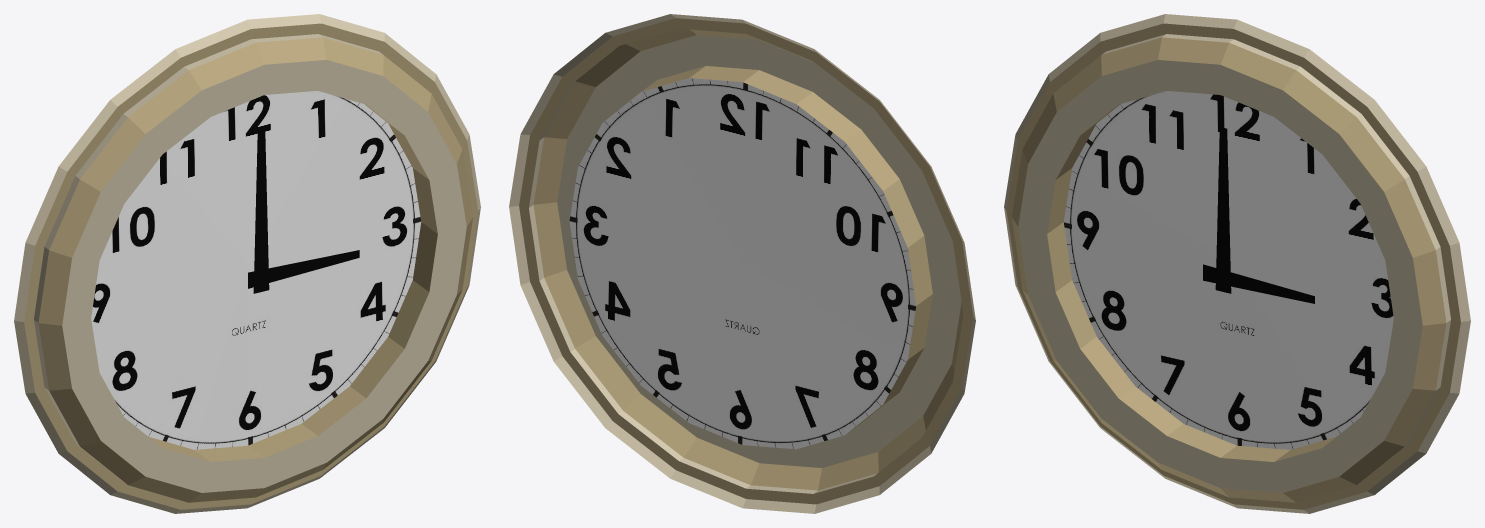
Rendered from clock_altered.dae.
The picture shows the model from 3 angles, left to right: view 1: azimuth 30°, elevation 25°; view 2: azimuth 150°, elevation 25°; view 3: azimuth 330°, elevation 25°; orthographic projection.
Parts seen in each view (by area): view 1: Lathe-Geometry, Box-Geometry, BoxDuplicate-Geometry; view 2: Lathe-Geometry; view 3: Lathe-Geometry, Box-Geometry, BoxDuplicate-Geometry.
Part boxes in pixels (left/top/right/bottom): Lathe-Geometry: left=14, top=14, right=480, bottom=513; Box-Geometry: left=253, top=127, right=269, bottom=293; BoxDuplicate-Geometry: left=248, top=250, right=359, bottom=288; Lathe-Geometry: left=509, top=14, right=975, bottom=513; Lathe-Geometry: left=1004, top=14, right=1470, bottom=513; Box-Geometry: left=1215, top=127, right=1231, bottom=293; BoxDuplicate-Geometry: left=1203, top=264, right=1314, bottom=303.
Bounding box in the file's own units: 87.96 × 5.66 × 87.96.
